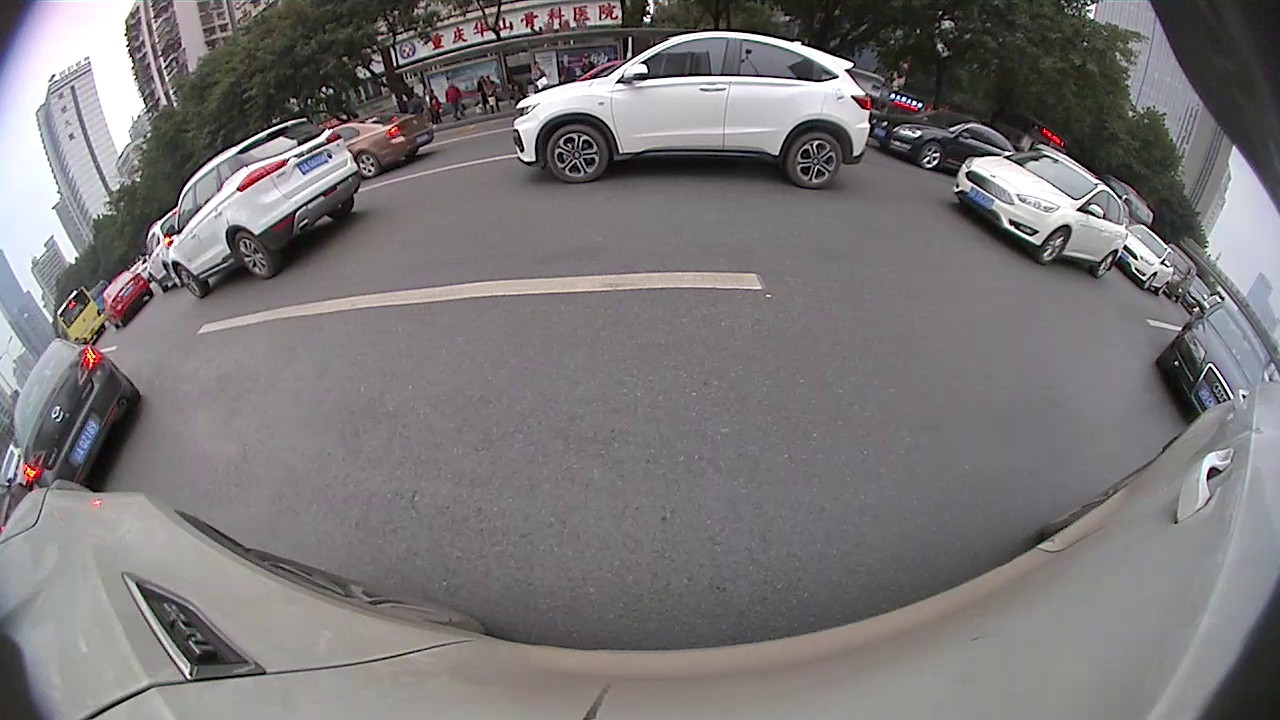bus: (55, 283, 104, 347)
car: (511, 30, 870, 190), (164, 117, 363, 300), (953, 147, 1131, 278), (13, 338, 141, 488), (1154, 297, 1265, 421), (867, 110, 1012, 170), (331, 111, 433, 179), (1119, 222, 1177, 297), (98, 265, 155, 334)
front: (547, 123, 608, 184), (1036, 222, 1071, 267), (173, 262, 210, 298), (918, 141, 943, 171), (1142, 270, 1158, 293)
rear: (786, 132, 843, 189), (232, 230, 275, 282), (1092, 248, 1117, 281), (355, 151, 382, 180)
